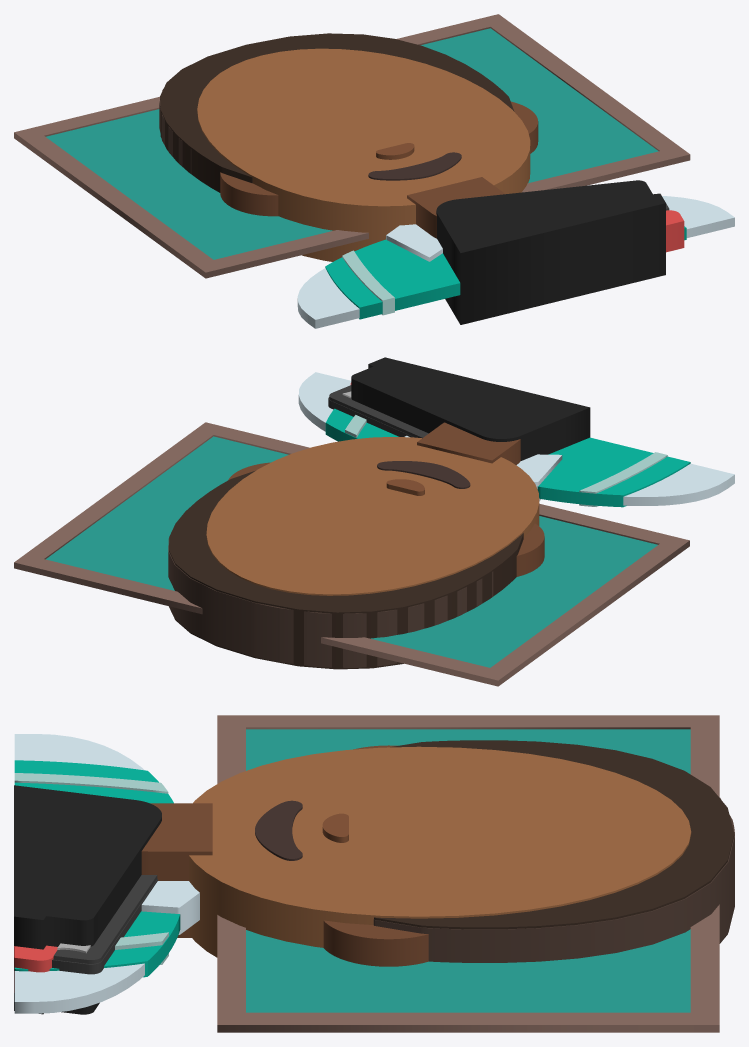
Rendered from emoji_u1f468_1f3fe_200d_1f3eb.glb.
3 renders of one model, top to bottom at view 1: azimuth 30°, elevation 25°; view 2: azimuth 150°, elevation 25°; view 3: azimuth 270°, elevation 25°, orthographic. The views are drawn at different scales.
Visible parts, largest first — view 1: emoji_u1f468_1f3fe_200d_1f3eb; view 2: emoji_u1f468_1f3fe_200d_1f3eb; view 3: emoji_u1f468_1f3fe_200d_1f3eb.
Boxes of the visible parts, box(x1,y1,x2,y2) form: emoji_u1f468_1f3fe_200d_1f3eb: box(14, 14, 734, 328); emoji_u1f468_1f3fe_200d_1f3eb: box(14, 357, 734, 686); emoji_u1f468_1f3fe_200d_1f3eb: box(14, 715, 734, 1032).
Size of the model in its own units: 0.0338 by 0.0048 by 0.0333.
